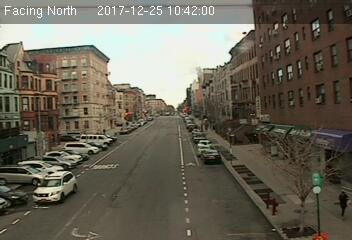car: (33, 171, 77, 203), (202, 151, 223, 164)
pedestrian: (337, 188, 347, 219)
